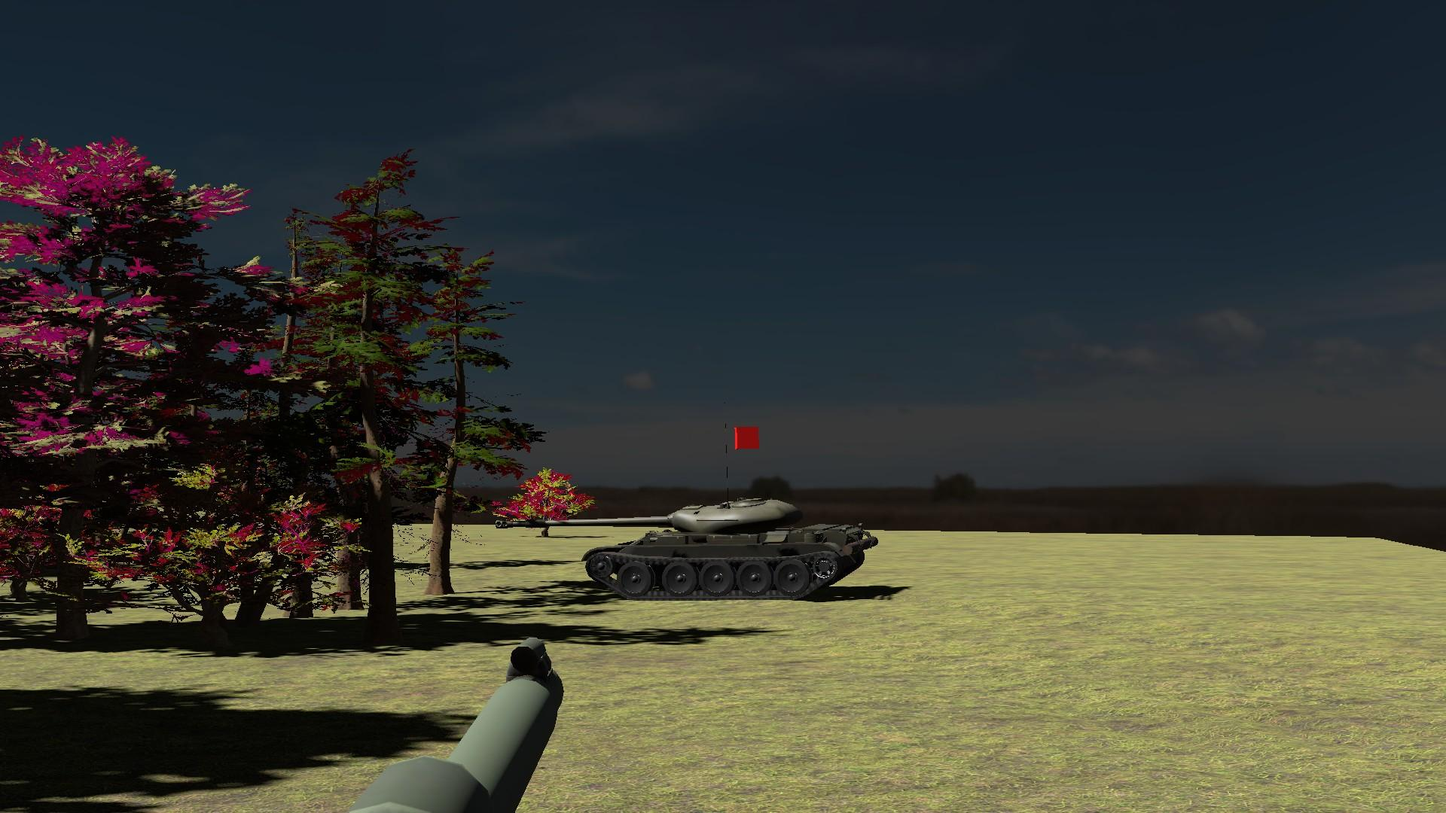Tank: (497, 487, 886, 608)
